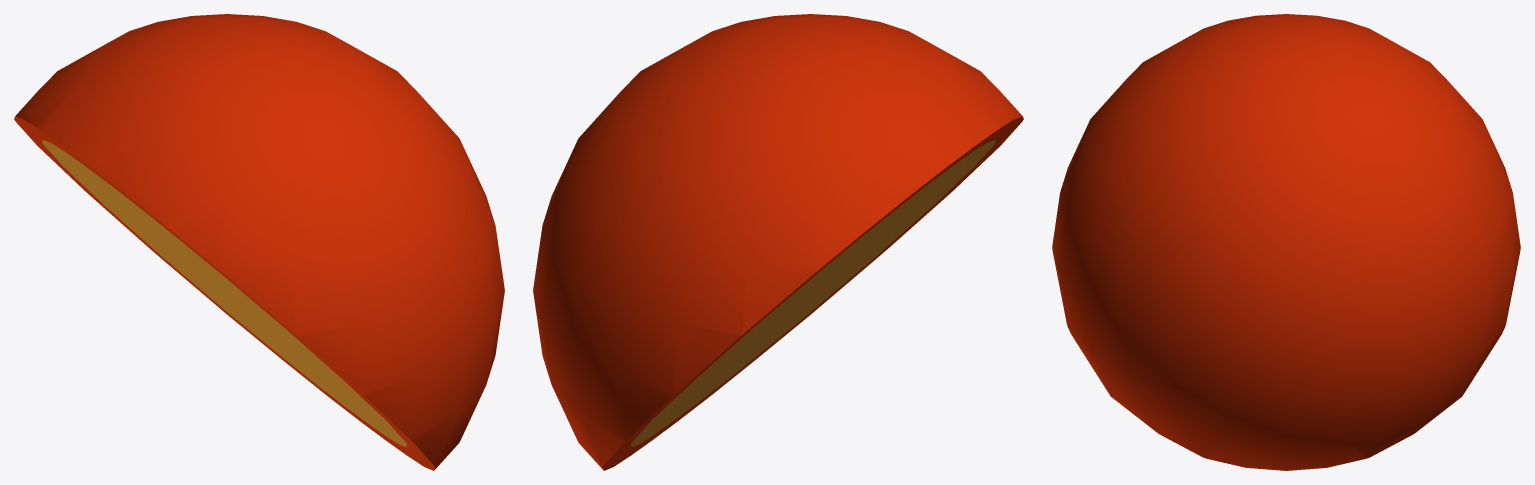
Rendered from orange1.fbx.
The picture shows the model from 3 angles, left to right: view 1: azimuth 30°, elevation 25°; view 2: azimuth 150°, elevation 25°; view 3: azimuth 270°, elevation 25°; orthographic projection. The views are drawn at different scales.
Parts seen in each view (by area): view 1: orange1; view 2: orange1; view 3: orange1.
Boxes of the visible parts, <box> form: orange1: <box>14,14,504,470</box>; orange1: <box>533,14,1023,470</box>; orange1: <box>1052,14,1520,470</box>.
Size of the model in its own units: 23.92 by 24.89 by 28.5.
